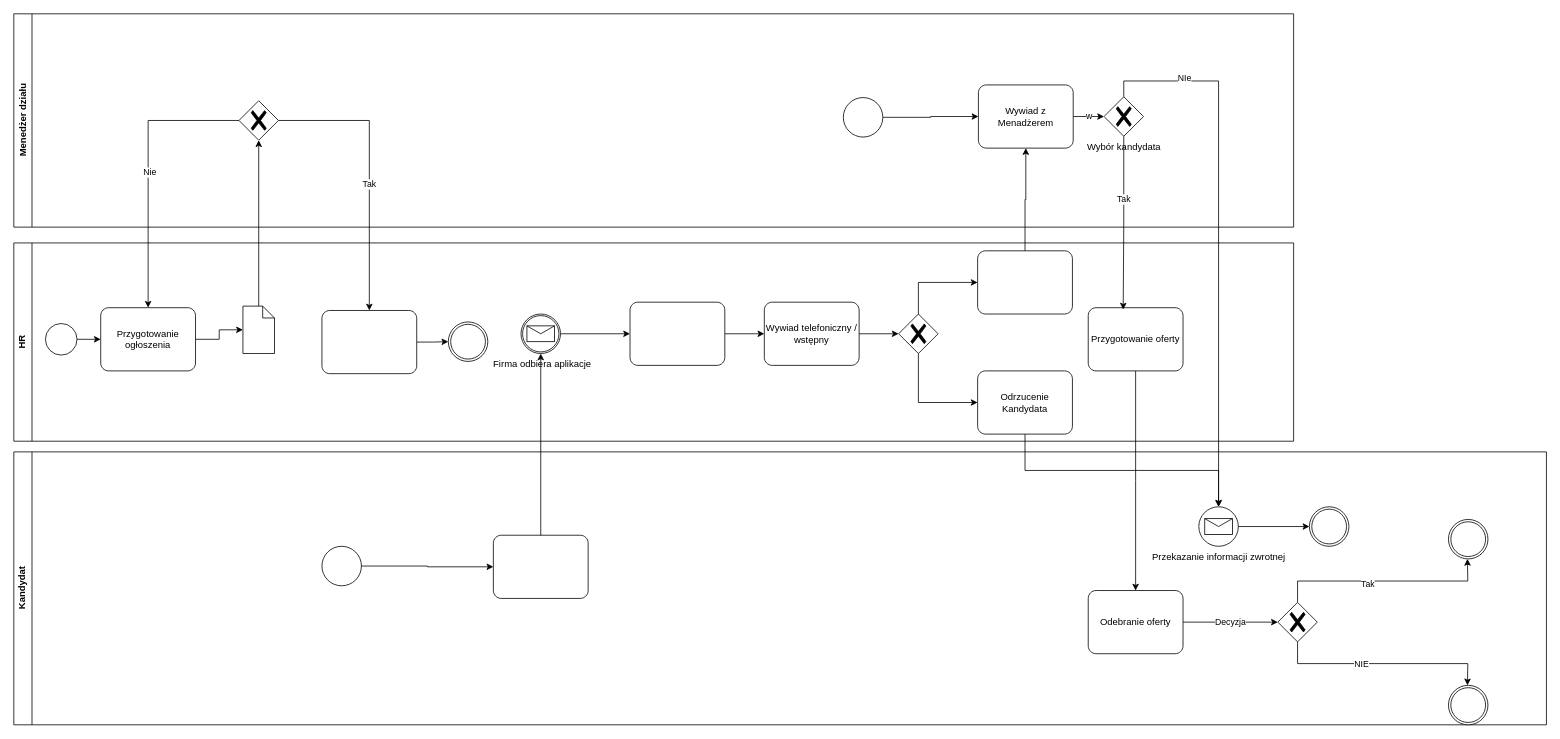
Image size: 1560x739. Some labels were removed from this diagram. The shapes that lost their labels are listed below. From the top down, each one's centre as x and y in pixels, then its label:
At (258,120): "Zaakceptowano?".
At (1024,282): "Zaakceptowanie Kandydata".
At (258,329): "Ogłoszenie o prace".
At (369,342): "Publikacja ogłoszenia".
At (677,333): "Dział HR przegląda aplikacje".
At (540,566): "Wysłanie CV, listu motywacyjnego".
